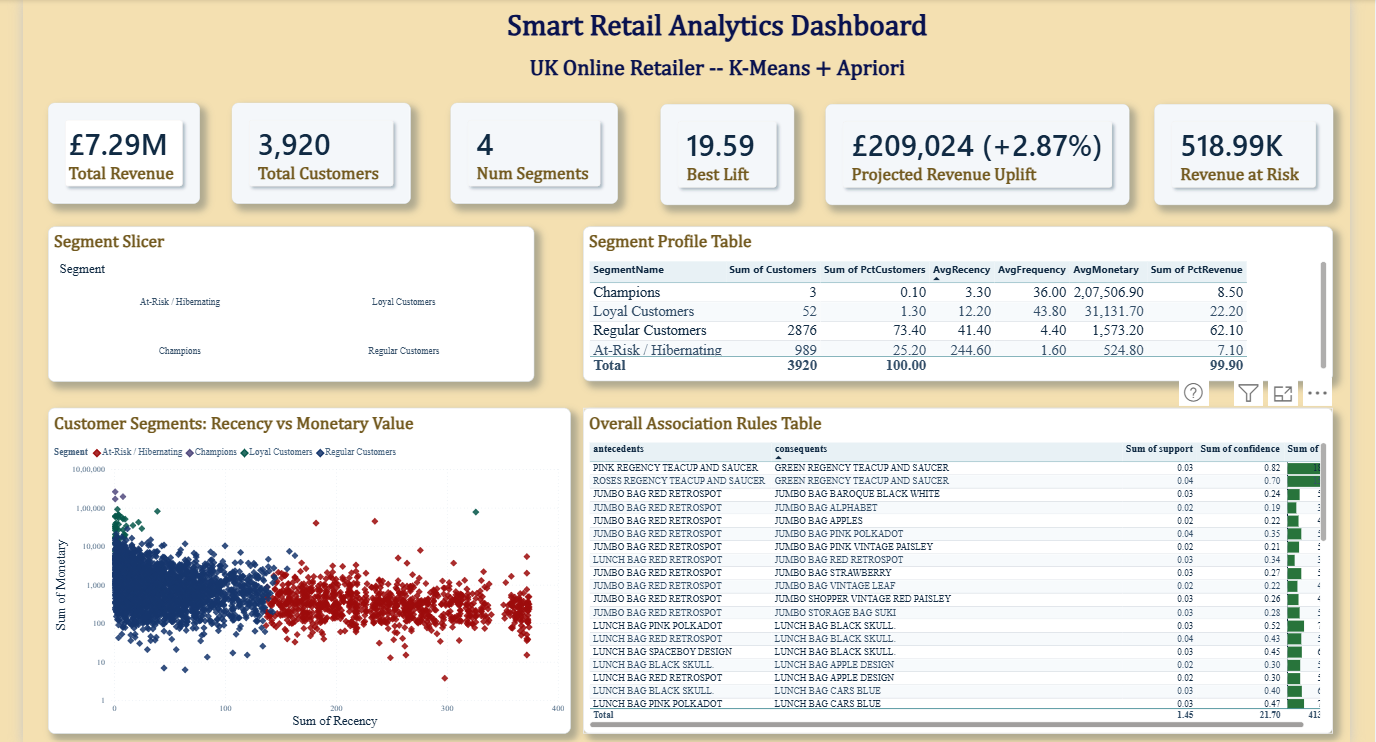

The dashboard page shown, as its layout file describes it:
{"tool":"powerbi","page":{"name":"Page 1","canvas":[1920,1080],"ordinal":0},"visuals":[{"type":"cardVisual","fields":{"Data":["customer_segments.Total Revenue"]},"box":[37,150.1,220.1,146],"z":0},{"type":"cardVisual","fields":{"Data":["customer_segments.Num Segments"]},"box":[619,150.1,242.7,146],"z":1000},{"type":"cardVisual","fields":{"Data":["association_rules_overall.Best Lift"]},"box":[923.4,152.2,193.3,146],"z":2000},{"type":"cardVisual","fields":{"Data":["customer_segments.Total Customers"]},"box":[302.3,150.1,259.1,146],"z":3000},{"type":"scatterChart","title":"Customer Segments: Recency vs Monetary Value","fields":{"Category":["customer_segments.CustomerID"],"Series":["customer_segments.Segment"],"X":["Sum(customer_segments.Recency)"],"Y":["Sum(customer_segments.Monetary)"]},"box":[36.2,591.8,756.4,472.3],"z":4000},{"type":"tableEx","title":"Segment Profile Table","fields":{"Values":["segment_summary.SegmentName","Sum(segment_summary.Customers)","Sum(segment_summary.PctCustomers)","segment_summary.AvgRecency","segment_summary.AvgFrequency","segment_summary.AvgMonetary","Sum(segment_summary.PctRevenue)"]},"box":[810.7,329.4,1085.8,224.4],"z":5000},{"type":"tableEx","title":"Overall Association Rules Table","fields":{"Values":["association_rules_overall.antecedents","association_rules_overall.consequents","Sum(association_rules_overall.support)","Sum(association_rules_overall.confidence)","Sum(association_rules_overall.lift)"]},"box":[810.7,591.8,1085.8,472.3],"z":6000},{"type":"slicer","title":"Segment Slicer ","fields":{"Values":["Segment Table.Segment"]},"box":[36.2,329.4,704.2,224.6],"z":7000},{"type":"textbox","box":[669.6,16.3,671.4,67],"z":8000},{"type":"textbox","box":[669.6,83.2,671.4,67],"z":9000},{"type":"cardVisual","fields":{"Data":["Min(before_after_summary.Projected Revenue Impact)"]},"box":[1162,152.2,440.1,146],"z":10000},{"type":"cardVisual","fields":{"Data":["customer_segments.Revenue at Risk"]},"box":[1637,152.2,259.1,146],"z":11000}]}

Visuals, with their boxes on the page's 1920x1080 design canvas (x1, y1, x2, y2). These are canvas units, not pixel positions in the 1376x742 screenshot, which may show the page scaled, cropped or inside an application window:
cardVisual - customer_segments.Total Revenue: 37 150 257 296
cardVisual - customer_segments.Num Segments: 619 150 862 296
cardVisual - association_rules_overall.Best Lift: 923 152 1117 298
cardVisual - customer_segments.Total Customers: 302 150 561 296
"Customer Segments: Recency vs Monetary Value" scatterChart: 36 592 793 1064
"Segment Profile Table" tableEx: 811 329 1896 554
"Overall Association Rules Table" tableEx: 811 592 1896 1064
"Segment Slicer " slicer: 36 329 740 554
textbox: 670 16 1341 83
textbox: 670 83 1341 150
cardVisual - Min(before_after_summary.Projected Revenue Impact): 1162 152 1602 298
cardVisual - customer_segments.Revenue at Risk: 1637 152 1896 298
